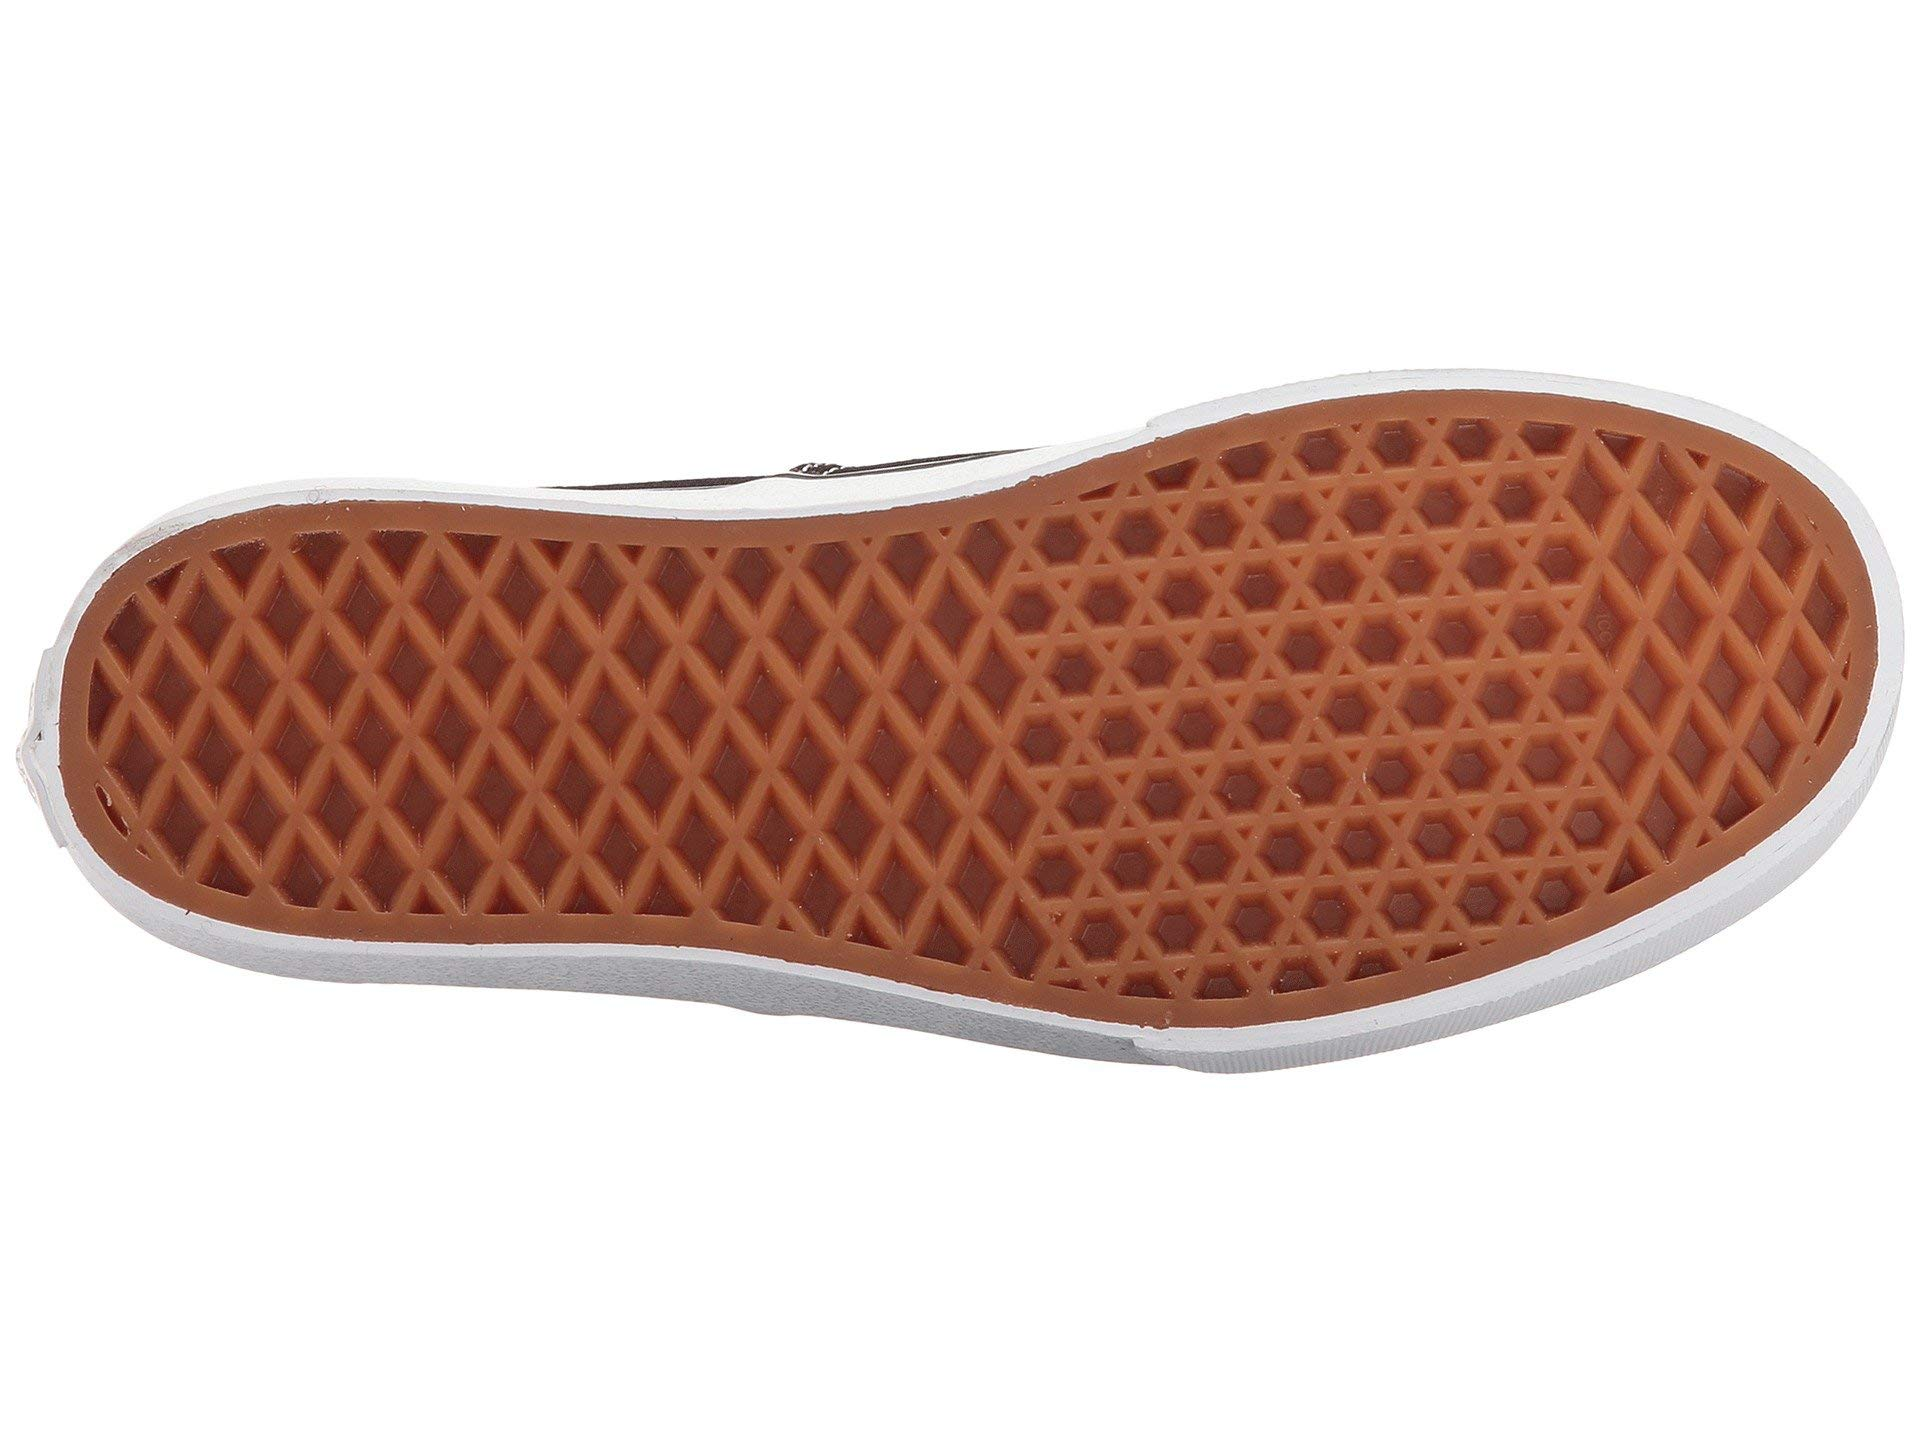polygon: (1113, 467, 1545, 939)
quad: (189, 569, 968, 892)
triangle: (1113, 467, 1545, 939)
